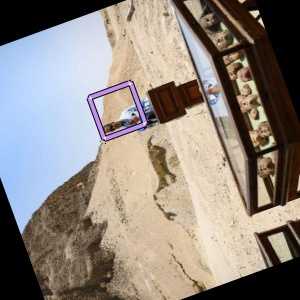square: (86, 79, 149, 143)
